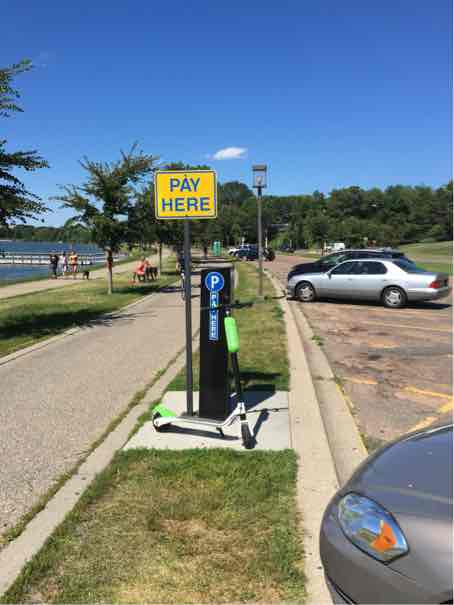scooter: (141, 286, 273, 457)
